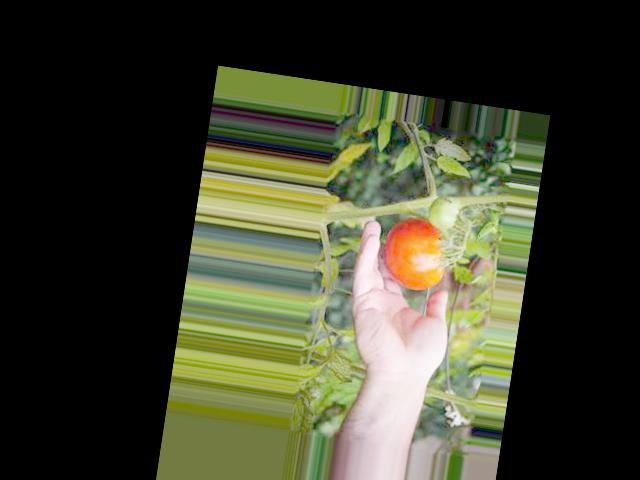tomato: (379, 212, 453, 294)
